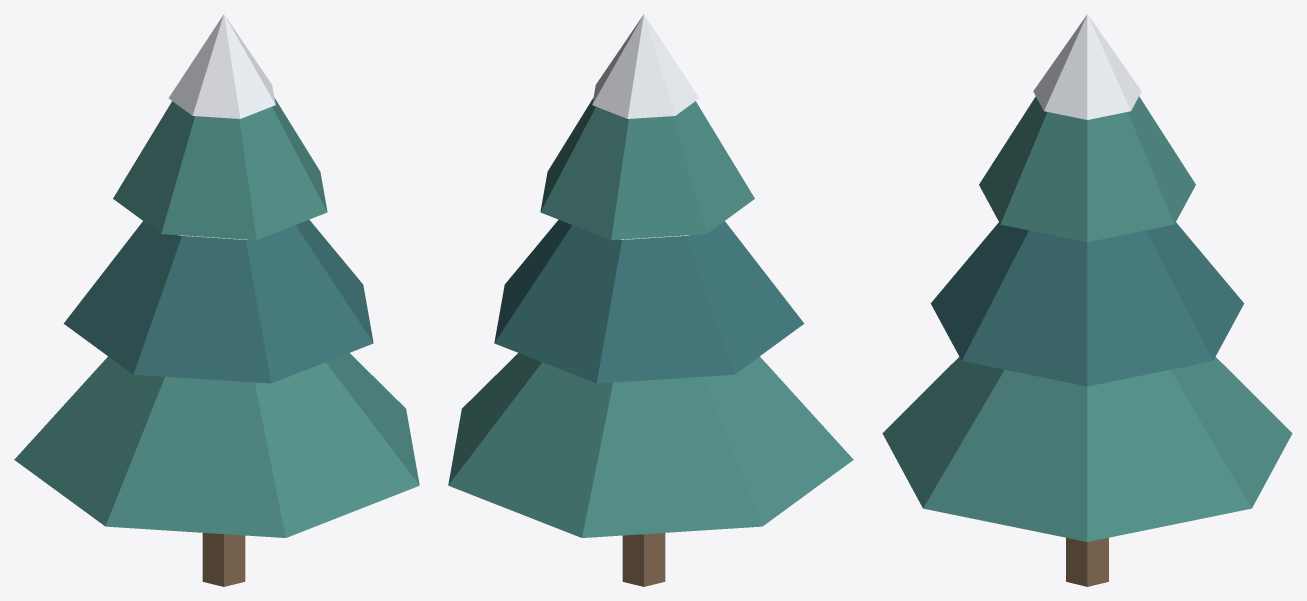
The model's file is pine_tree.glb.
3 views of the same model, side by side, from view 1: azimuth 30°, elevation 25°; view 2: azimuth 150°, elevation 25°; view 3: azimuth 270°, elevation 25° (orthographic).
Parts seen in each view (by area): view 1: t_pine0, t_pine1, t_pine2, t_snow2, t_trunk; view 2: t_pine0, t_pine1, t_pine2, t_snow2, t_trunk; view 3: t_pine0, t_pine1, t_pine2, t_snow2, t_trunk.
Part boxes in pixels (x1,y1,x2,y2): t_pine0: (14, 353, 419, 537); t_pine1: (63, 219, 373, 383); t_pine2: (113, 98, 327, 240); t_snow2: (168, 14, 275, 118); t_trunk: (202, 533, 245, 586); t_pine0: (448, 353, 853, 537); t_pine1: (494, 219, 804, 383); t_pine2: (540, 98, 754, 240); t_snow2: (592, 14, 699, 118); t_trunk: (622, 533, 665, 586); t_pine0: (882, 357, 1292, 541); t_pine1: (931, 222, 1243, 386); t_pine2: (979, 96, 1195, 242); t_snow2: (1033, 14, 1141, 119); t_trunk: (1066, 537, 1108, 586).
Size of the model in its own units: 2.02 by 3.13 by 2.07.
